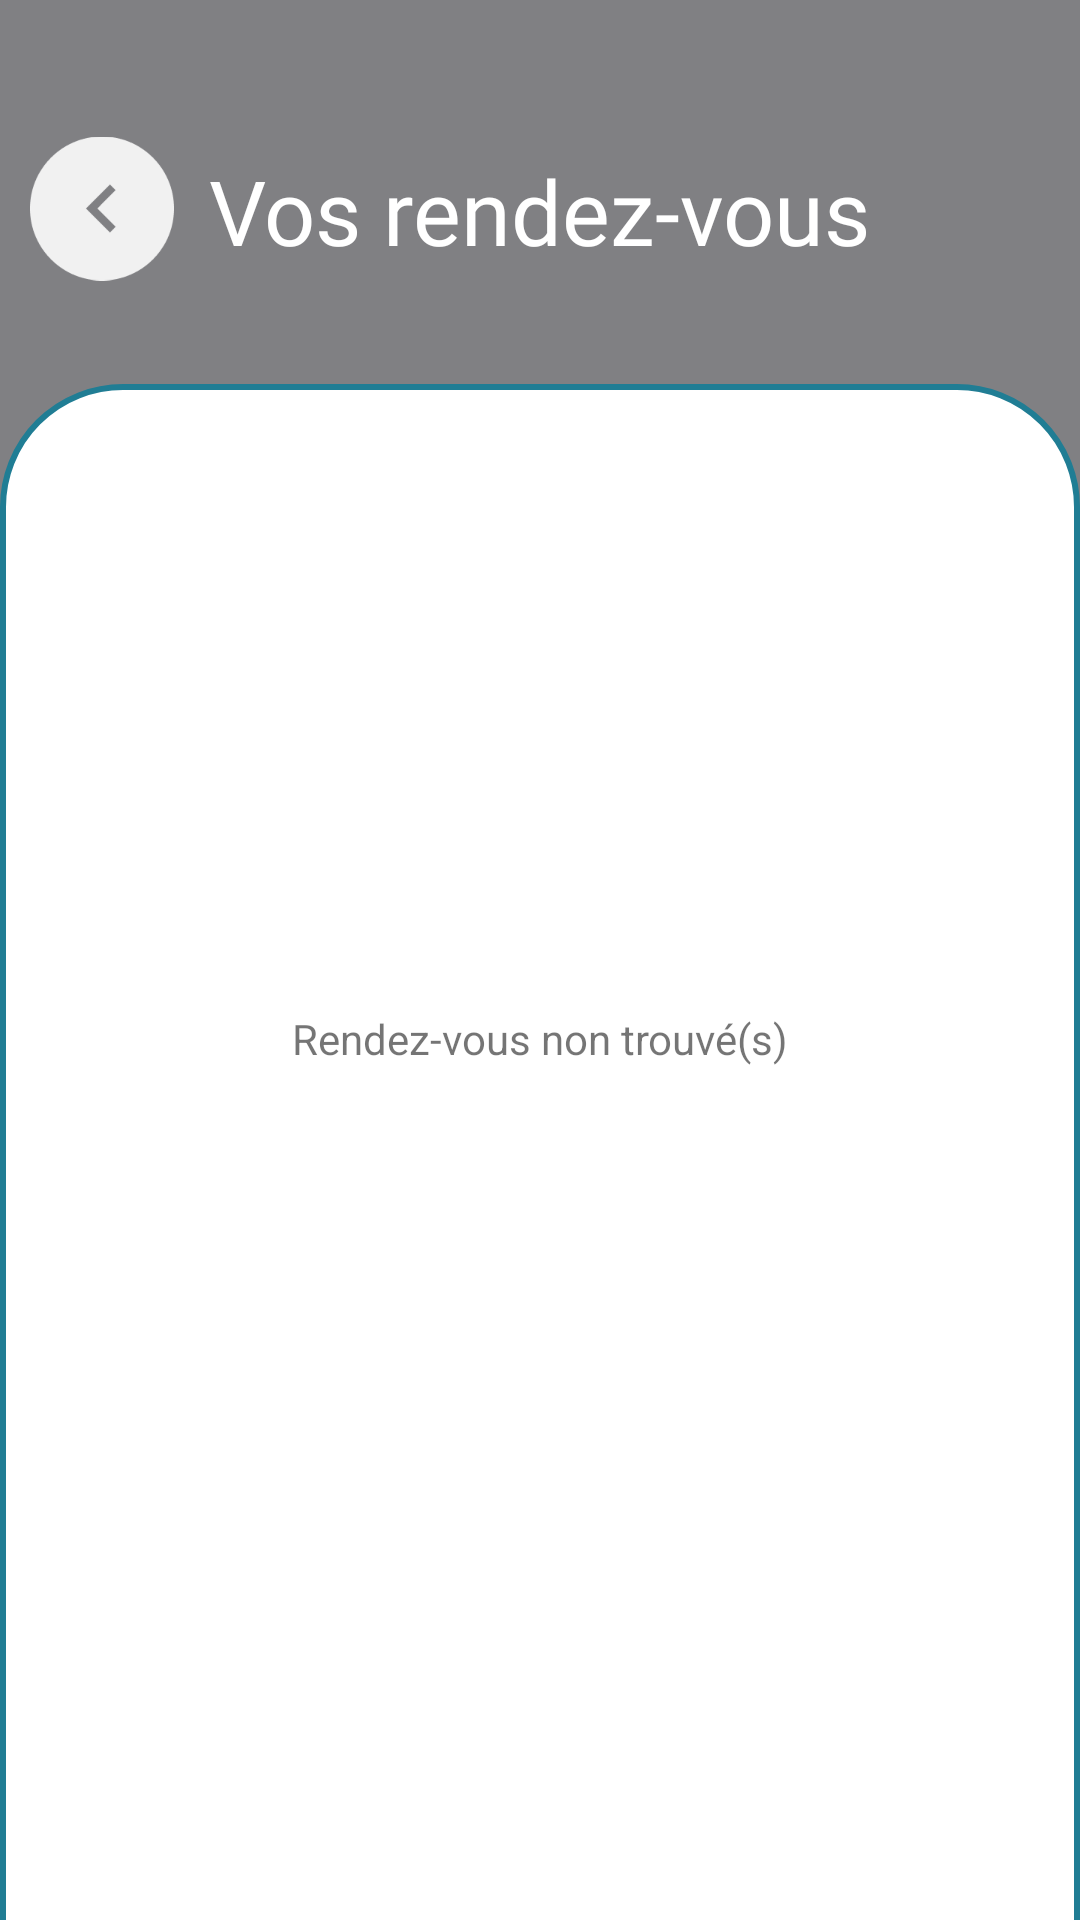

Icon bounding boxes for this 1080w x 1920h phone screenshot, format (x1,y1,x2,y2):
back: (30,137,174,281)
